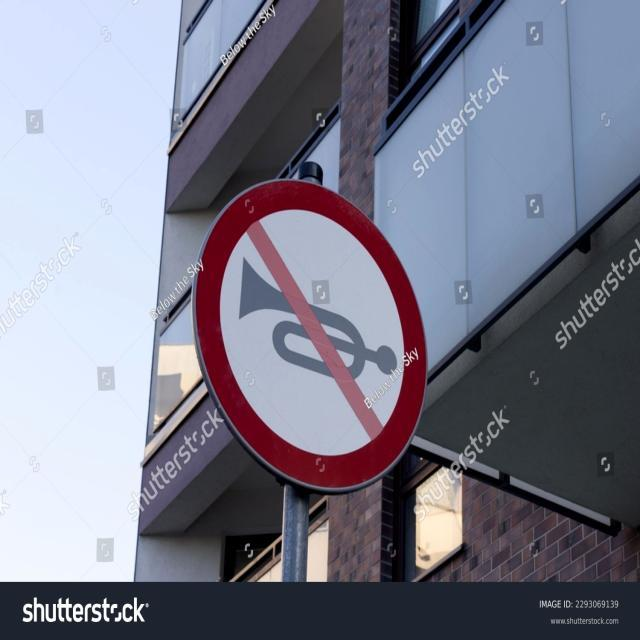Traffic sign: (188, 168, 438, 499)
